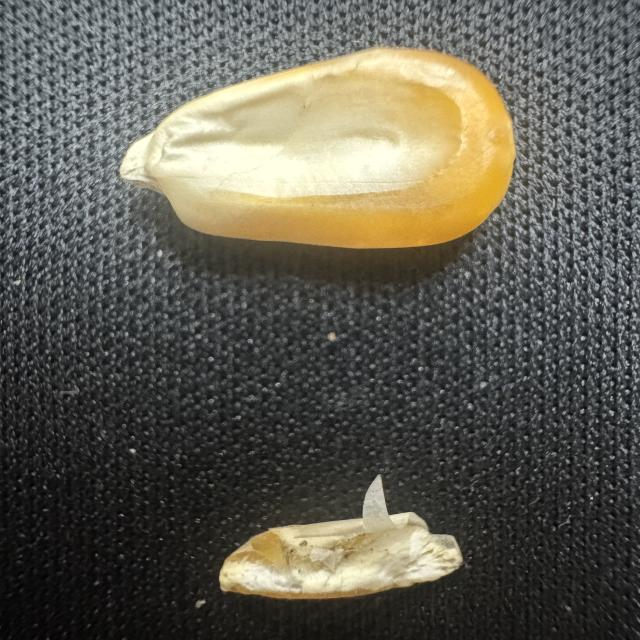Bad-Seed: (199, 476, 487, 606)
Good-Seed: (106, 40, 548, 268)
